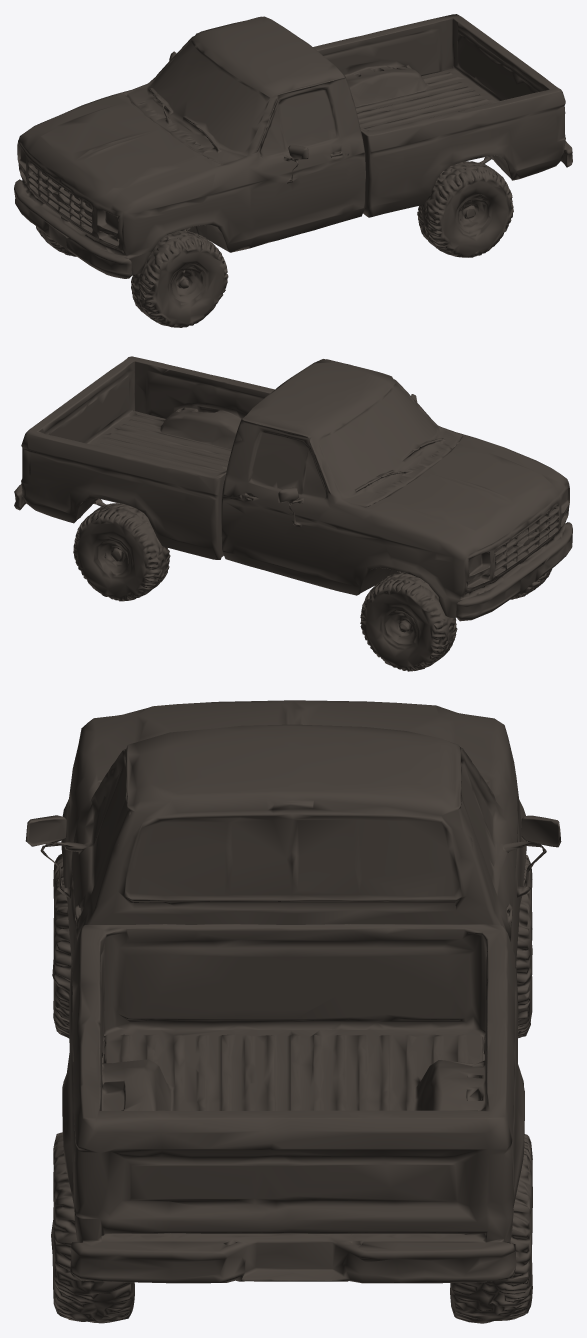
Rendered from car_pickup_light_q0.glb.
The picture shows the model from 3 angles, top to bottom: view 1: azimuth 30°, elevation 25°; view 2: azimuth 150°, elevation 25°; view 3: azimuth 270°, elevation 25°; orthographic projection. The views are drawn at different scales.
Bounding box in the file's own units: 5.26 × 2.2 × 2.6.
Materials: 1 (1 with a texture image).
